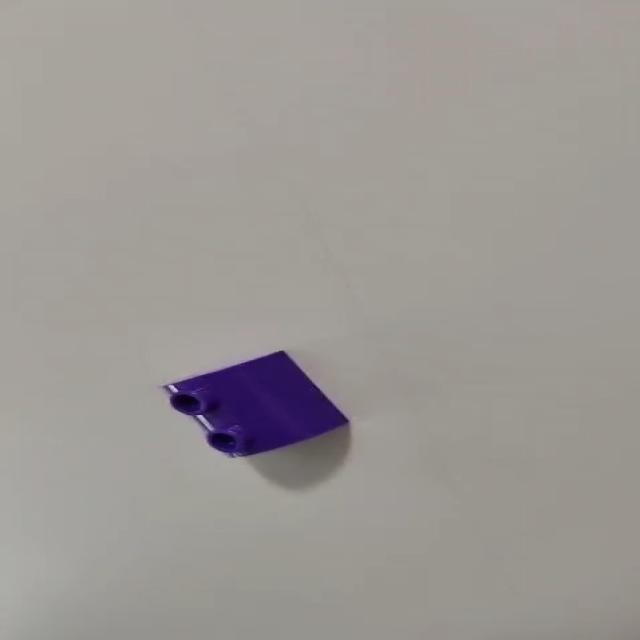H2x2x1: (161, 349, 354, 459)
